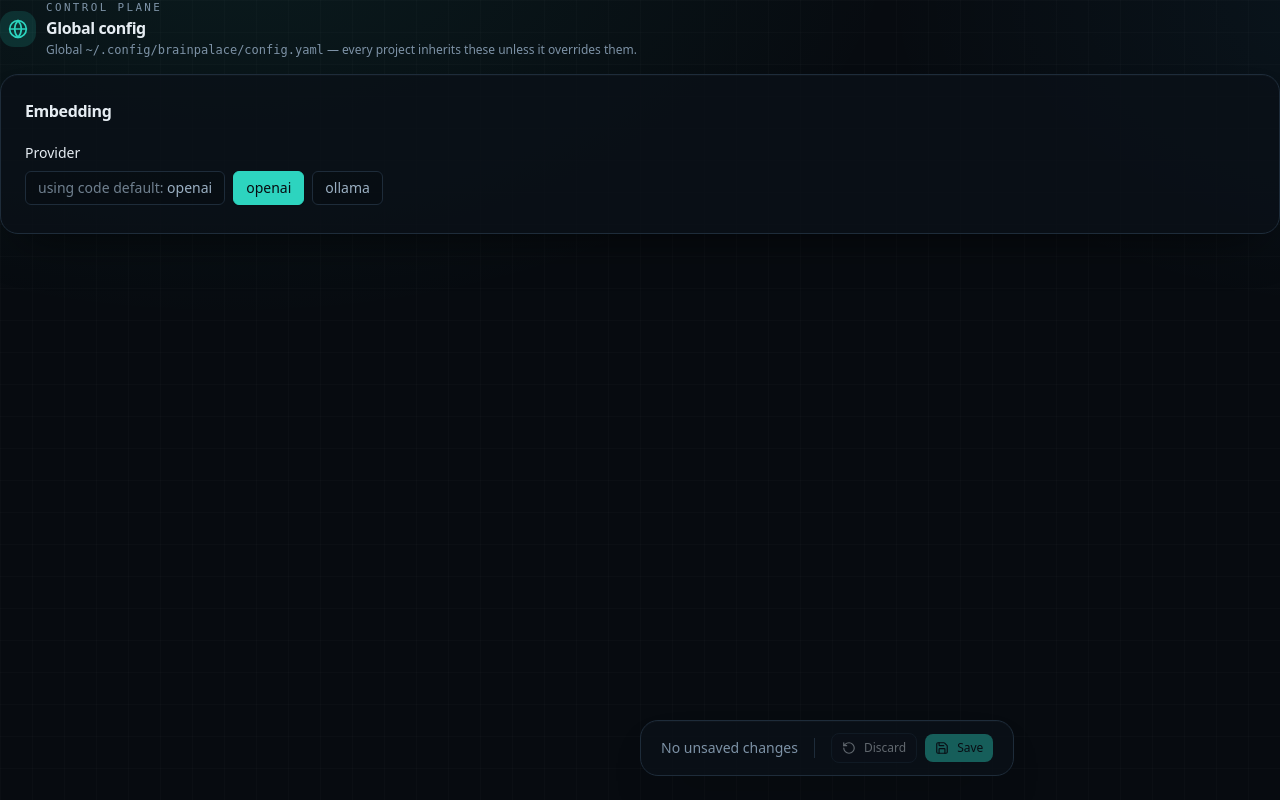
Test: GlobalConfig tab (Server page) › saves the global config via patchGlobalConfig (no restart button)
Click the radio button with test id "enum-embedding.provider-ollama". click: click(348, 188)
box: [312,171,383,205]
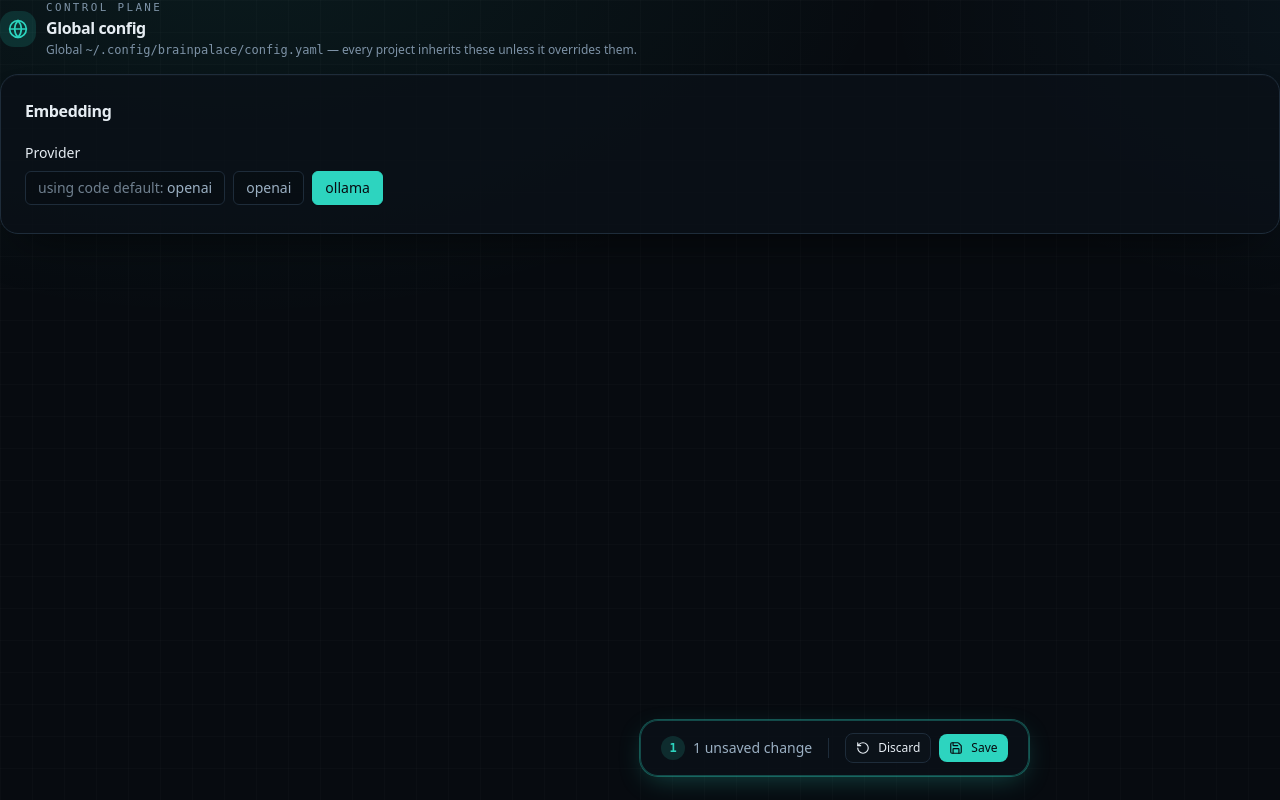
Click the button with test id "btn-save". click: click(974, 748)
box: [939,734,1008,762]
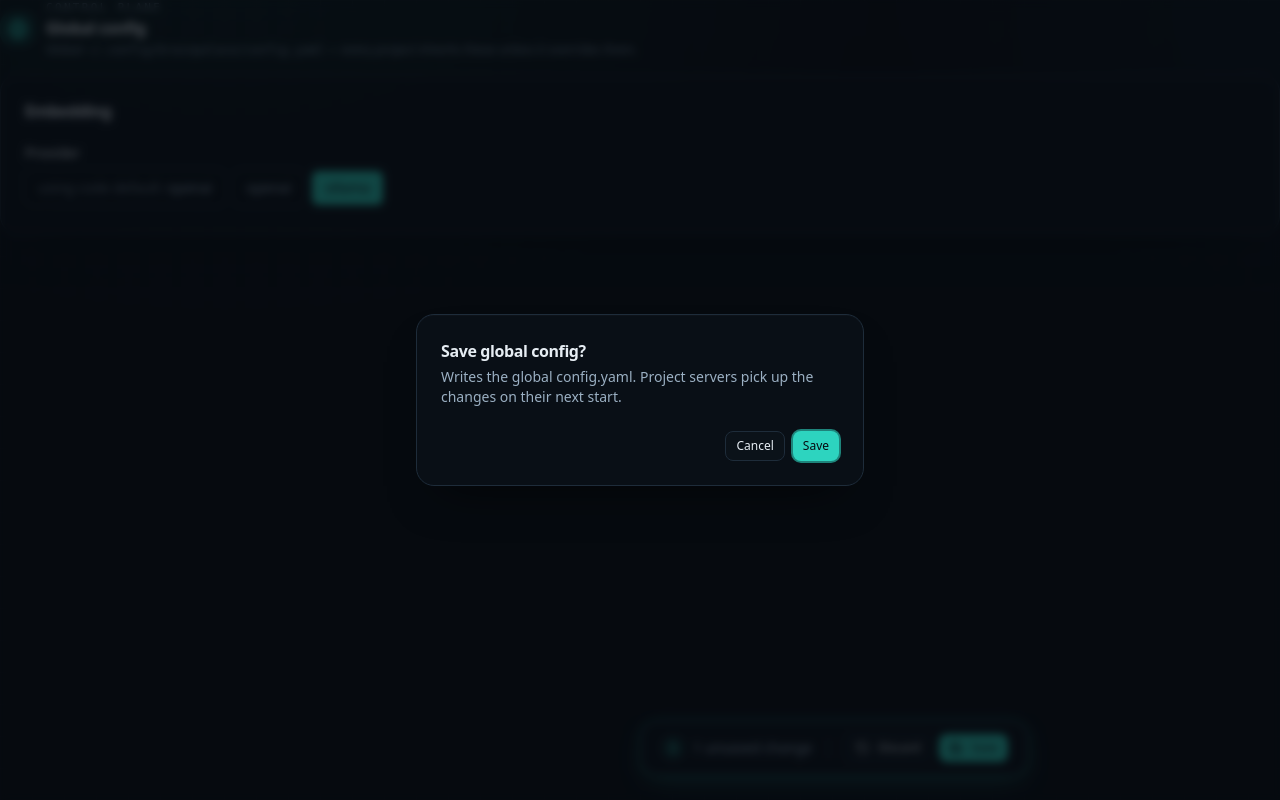
Click the button with test id "btn-confirm". click: click(816, 446)
box: [793,431,839,461]
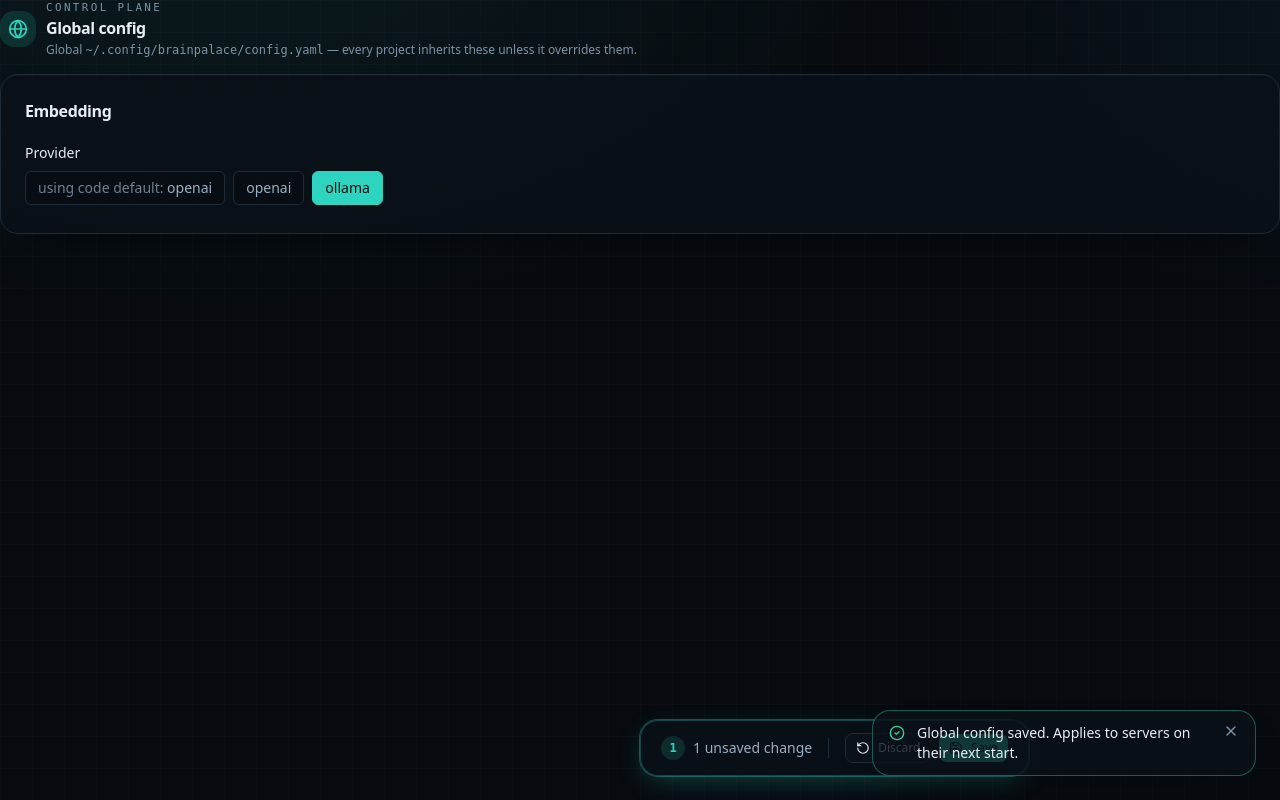
expect the message "Global config saved. Applies to servers on their next start." is shown: met, box [872,710,1256,776]
